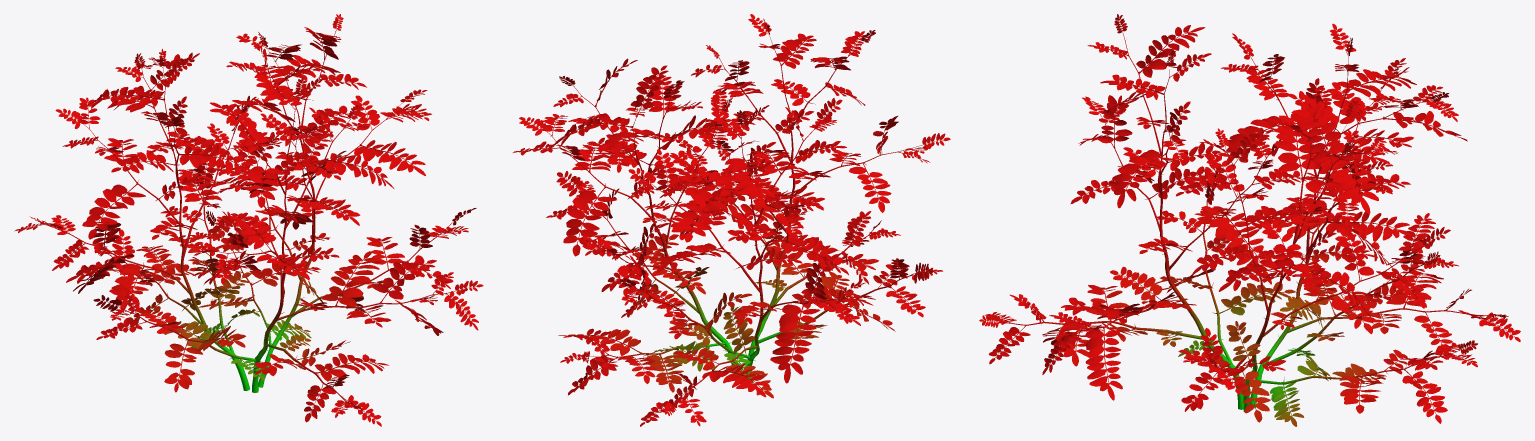
The model's file is Black Locust_LOD0_Var10.fbx.
3 views of the same model, side by side, from view 1: azimuth 30°, elevation 25°; view 2: azimuth 150°, elevation 25°; view 3: azimuth 270°, elevation 25° (orthographic). The views are drawn at different scales.
Parts seen in each view (by area): view 1: _iwkq_Var10_LOD0; view 2: _iwkq_Var10_LOD0; view 3: _iwkq_Var10_LOD0.
Part boxes in pixels (left/top/right/bottom): _iwkq_Var10_LOD0: left=14, top=14, right=483, bottom=426; _iwkq_Var10_LOD0: left=513, top=14, right=950, bottom=426; _iwkq_Var10_LOD0: left=979, top=14, right=1520, bottom=426.
Bounding box in the file's own units: 136 × 115 × 153.
